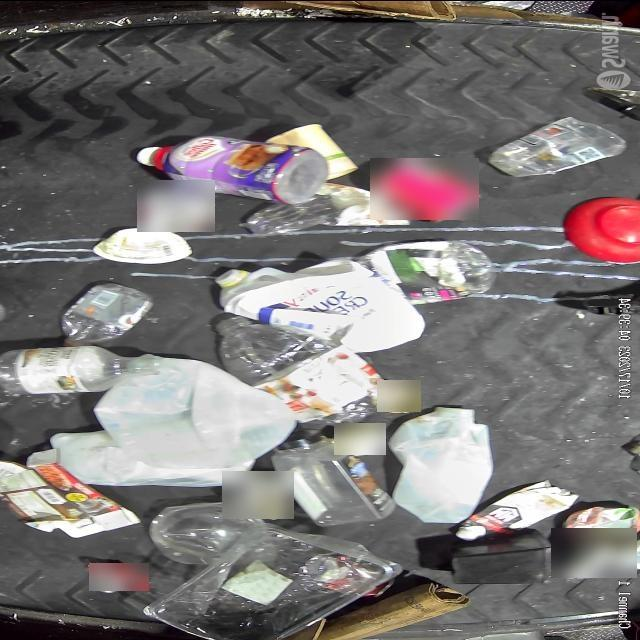milk_jug: (93, 355, 294, 477), (217, 258, 427, 352), (28, 428, 256, 486), (390, 406, 494, 526)
plastic_bottle: (220, 316, 376, 424), (238, 180, 414, 234), (2, 342, 128, 393), (60, 280, 156, 344)
